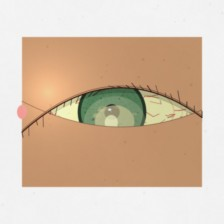corneal_ulcer: (83, 96, 147, 147)
